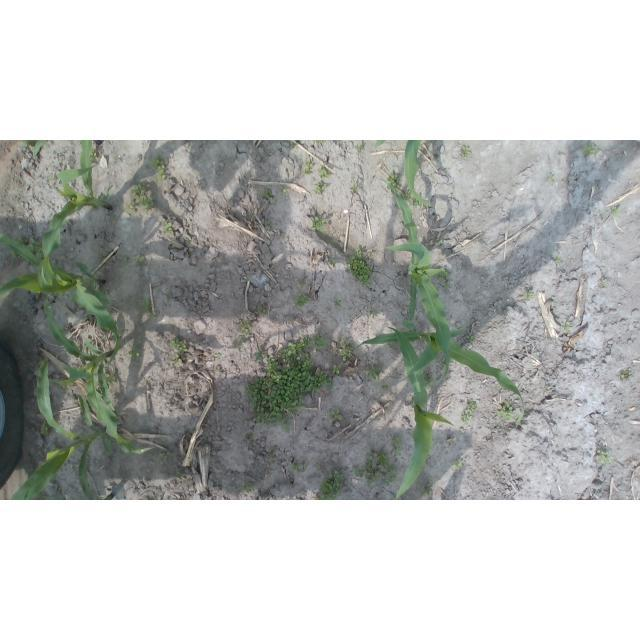Maize: (42, 297, 155, 456), (356, 326, 527, 426), (0, 233, 122, 366), (379, 177, 454, 383), (10, 356, 114, 500), (385, 323, 454, 500), (38, 164, 115, 288), (19, 141, 94, 200), (373, 140, 432, 206)
Weeds: (245, 335, 320, 433), (364, 449, 400, 487), (125, 183, 158, 215), (347, 248, 374, 285), (316, 471, 344, 500), (148, 153, 167, 183), (136, 299, 156, 319), (496, 401, 516, 421), (26, 237, 43, 260), (338, 339, 354, 361), (168, 338, 188, 355), (316, 371, 332, 391), (387, 172, 402, 193), (438, 270, 452, 291), (583, 141, 600, 157), (596, 450, 613, 466), (294, 292, 310, 308), (312, 335, 329, 350), (240, 321, 253, 340), (369, 364, 384, 380), (312, 216, 326, 232), (317, 165, 331, 179), (331, 408, 346, 421), (435, 357, 452, 368), (313, 183, 327, 196), (162, 221, 174, 236), (465, 398, 477, 412), (420, 485, 432, 498), (260, 188, 272, 201), (105, 373, 115, 388), (292, 460, 303, 473), (303, 159, 313, 173), (452, 459, 463, 471), (401, 189, 412, 201), (461, 144, 472, 156), (423, 370, 433, 383), (350, 182, 360, 195), (12, 237, 25, 247), (412, 197, 423, 208), (134, 253, 145, 264), (9, 249, 21, 259), (130, 346, 140, 358), (241, 482, 253, 492), (352, 467, 364, 477), (173, 354, 184, 364), (524, 291, 535, 301), (621, 370, 632, 380), (461, 410, 470, 422), (333, 364, 343, 374), (41, 425, 50, 435), (562, 322, 573, 330), (466, 334, 475, 343), (612, 208, 621, 217), (436, 235, 444, 245), (123, 256, 133, 264), (89, 204, 99, 212), (256, 308, 264, 317), (599, 209, 608, 217), (336, 300, 345, 308), (392, 437, 401, 445), (554, 256, 562, 264), (113, 155, 120, 164), (280, 188, 287, 197), (263, 220, 273, 226), (329, 256, 336, 264), (185, 236, 192, 244), (160, 453, 168, 460), (356, 141, 361, 152), (548, 174, 554, 183), (316, 140, 329, 144), (382, 385, 389, 392), (289, 140, 297, 146), (600, 280, 608, 286), (176, 471, 184, 477), (48, 174, 55, 180), (59, 384, 69, 388), (544, 387, 552, 392), (216, 366, 222, 372), (214, 353, 220, 359), (316, 462, 321, 469), (33, 388, 37, 396), (167, 296, 173, 301), (371, 312, 376, 317), (560, 151, 564, 156), (240, 344, 245, 348), (268, 452, 272, 457)
